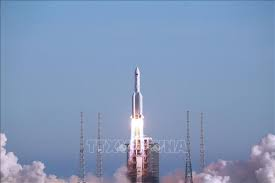ten_lua: (128, 63, 146, 121)
